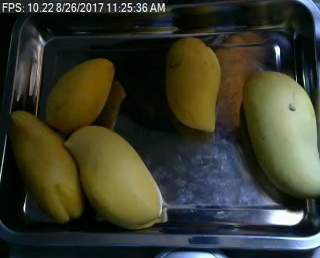Mango: (63, 126, 164, 228), (242, 70, 320, 201), (8, 110, 83, 224), (165, 36, 221, 130), (43, 60, 115, 133)
